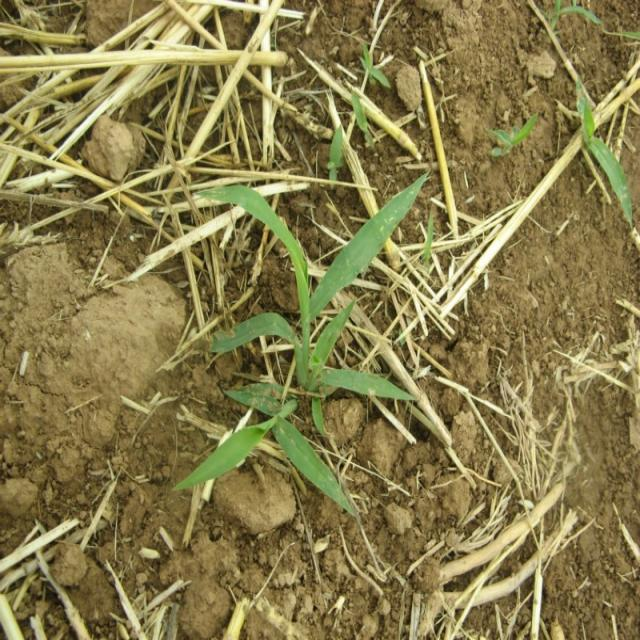bg: (181, 180, 425, 521)
